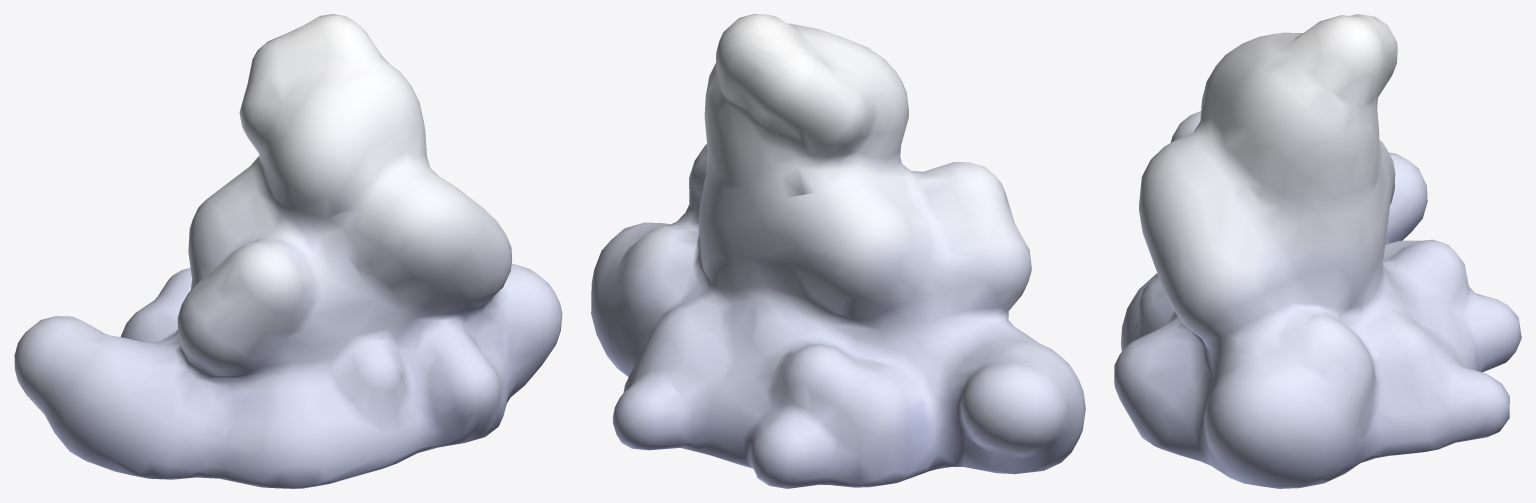
Rendered from NubeCumulo3.fbx.
3 views of the same model, side by side, from view 1: azimuth 30°, elevation 25°; view 2: azimuth 150°, elevation 25°; view 3: azimuth 270°, elevation 25° (orthographic). The views are drawn at different scales.
Visible parts, largest first — view 1: NubeCumulo3; view 2: NubeCumulo3; view 3: NubeCumulo3.
Part boxes in pixels (<box>): NubeCumulo3: <box>14,14,562,488</box>; NubeCumulo3: <box>591,14,1085,488</box>; NubeCumulo3: <box>1114,14,1521,488</box>.
Size of the model in its own units: 220 by 164 by 151.
Materials: 1 (1 with a texture image).
